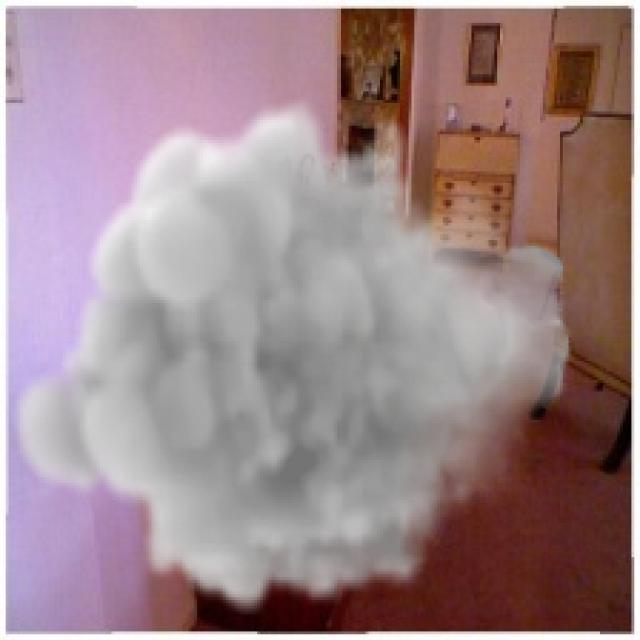Smoke: (6, 97, 574, 614)
